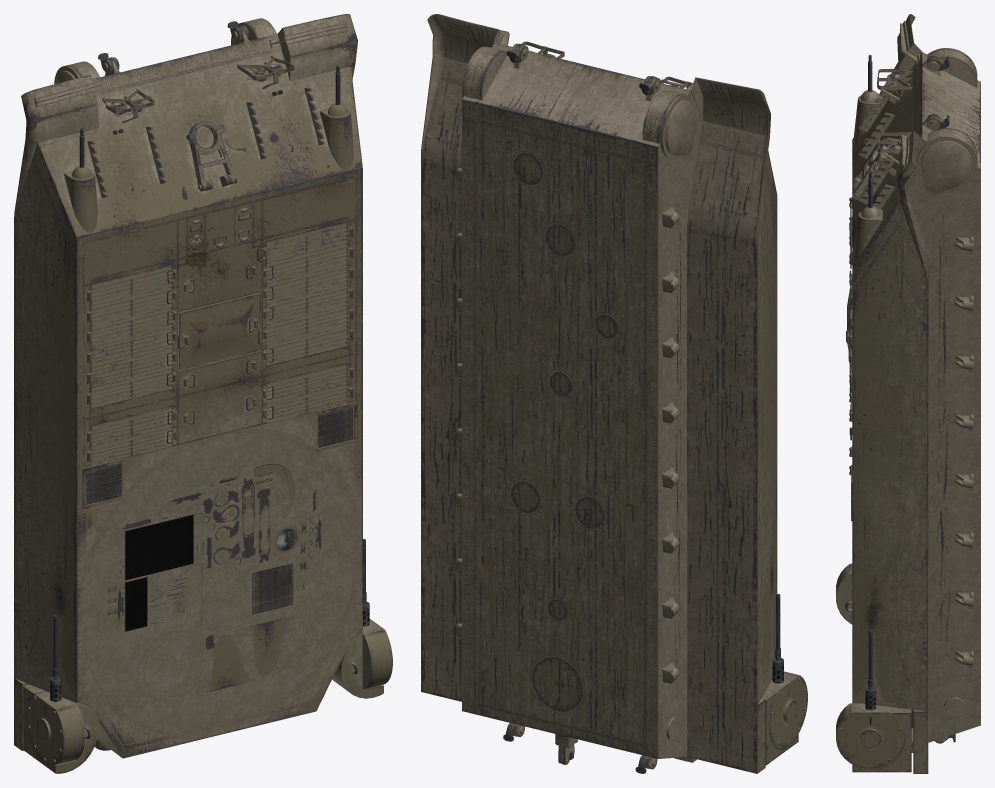
File: Hull.glb
3 renders of one model, left to right at view 1: azimuth 30°, elevation 25°; view 2: azimuth 150°, elevation 25°; view 3: azimuth 270°, elevation 25°, orthographic. The views are drawn at different scales.
Visible parts, largest first — view 1: set_0_group_0; view 2: set_0_group_0; view 3: set_0_group_0.
Boxes of the visible parts, x1,y1,x2,y2 form: set_0_group_0: (14, 14, 392, 773); set_0_group_0: (421, 14, 807, 773); set_0_group_0: (836, 14, 980, 773).
Bounding box in the file's own units: 3.97 × 7.65 × 1.6.
1 material, 1 textured.
